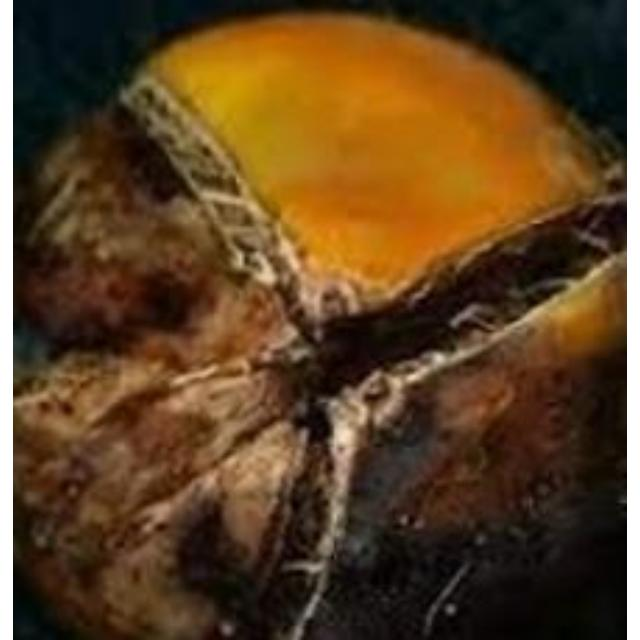damaged: (13, 11, 625, 637)
